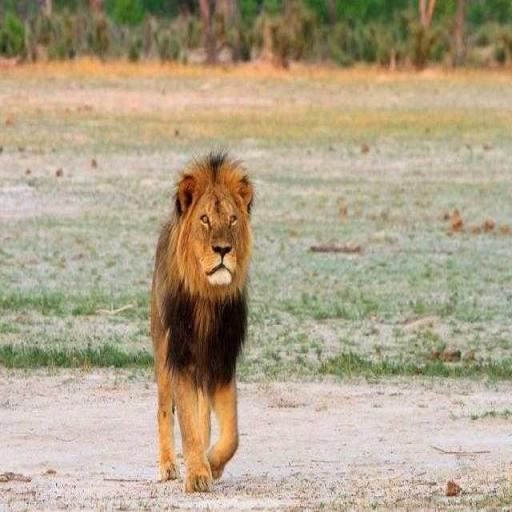Lion: (149, 148, 255, 494)
